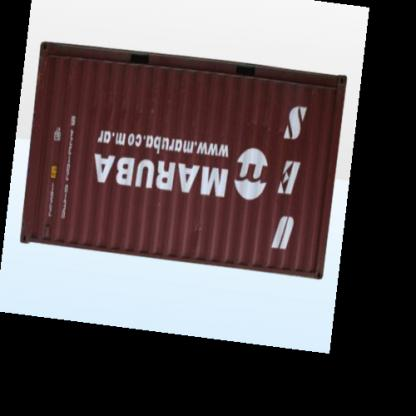Damage: (116, 92, 174, 126), (249, 112, 294, 141), (187, 224, 211, 242)
